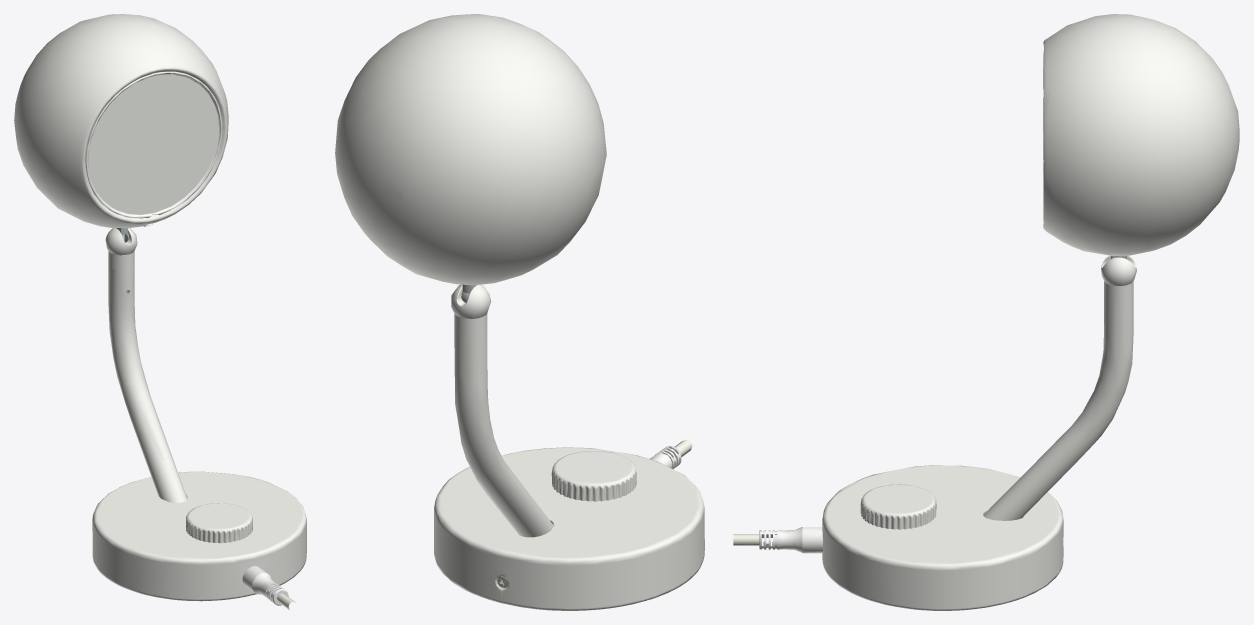
File: korvsnore_lampa_scienna_led_00608545.glb
3 renders of one model, left to right at view 1: azimuth 30°, elevation 25°; view 2: azimuth 150°, elevation 25°; view 3: azimuth 270°, elevation 25°, orthographic. The views are drawn at different scales.
Parts seen in each view (by area): view 1: korvsnore_lampa_scienna_led_00608545; view 2: korvsnore_lampa_scienna_led_00608545; view 3: korvsnore_lampa_scienna_led_00608545.
Boxes of the visible parts, box(x1,y1,x2,y2) form: korvsnore_lampa_scienna_led_00608545: box(14, 14, 306, 610); korvsnore_lampa_scienna_led_00608545: box(335, 14, 704, 610); korvsnore_lampa_scienna_led_00608545: box(733, 14, 1239, 610).
Size of the model in its own units: 0.1204 by 0.2934 by 0.252.
2 materials, 2 textured.
